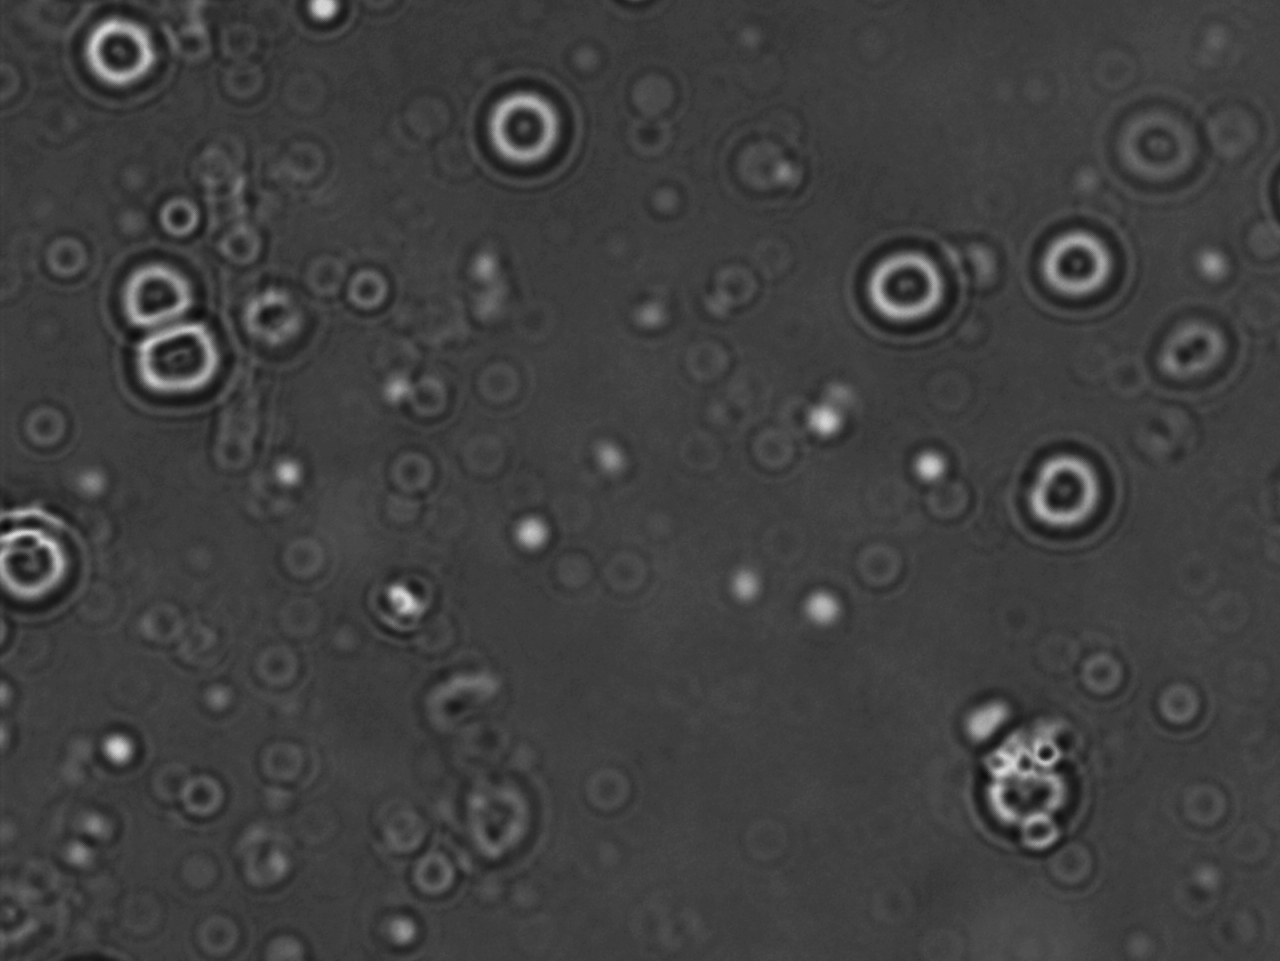depth:8: (463, 68, 596, 197), (845, 227, 970, 356), (998, 428, 1129, 551), (1017, 202, 1140, 327), (113, 303, 242, 415), (95, 240, 210, 348), (69, 9, 175, 109)
